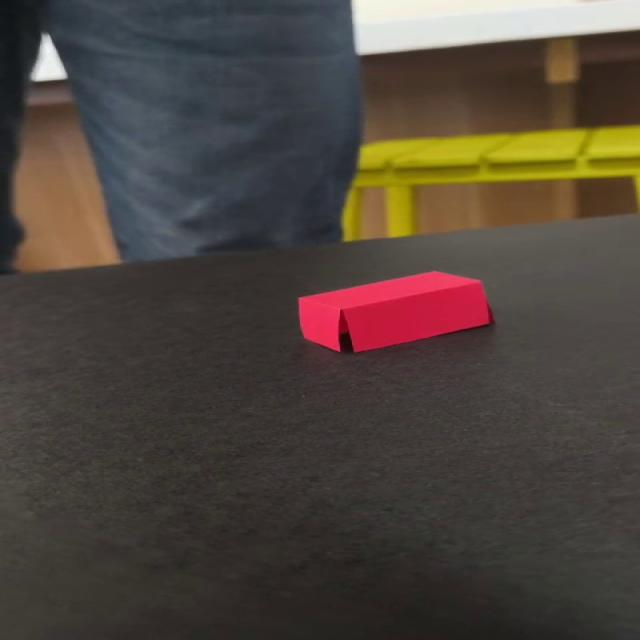red block: (296, 270, 493, 353)
